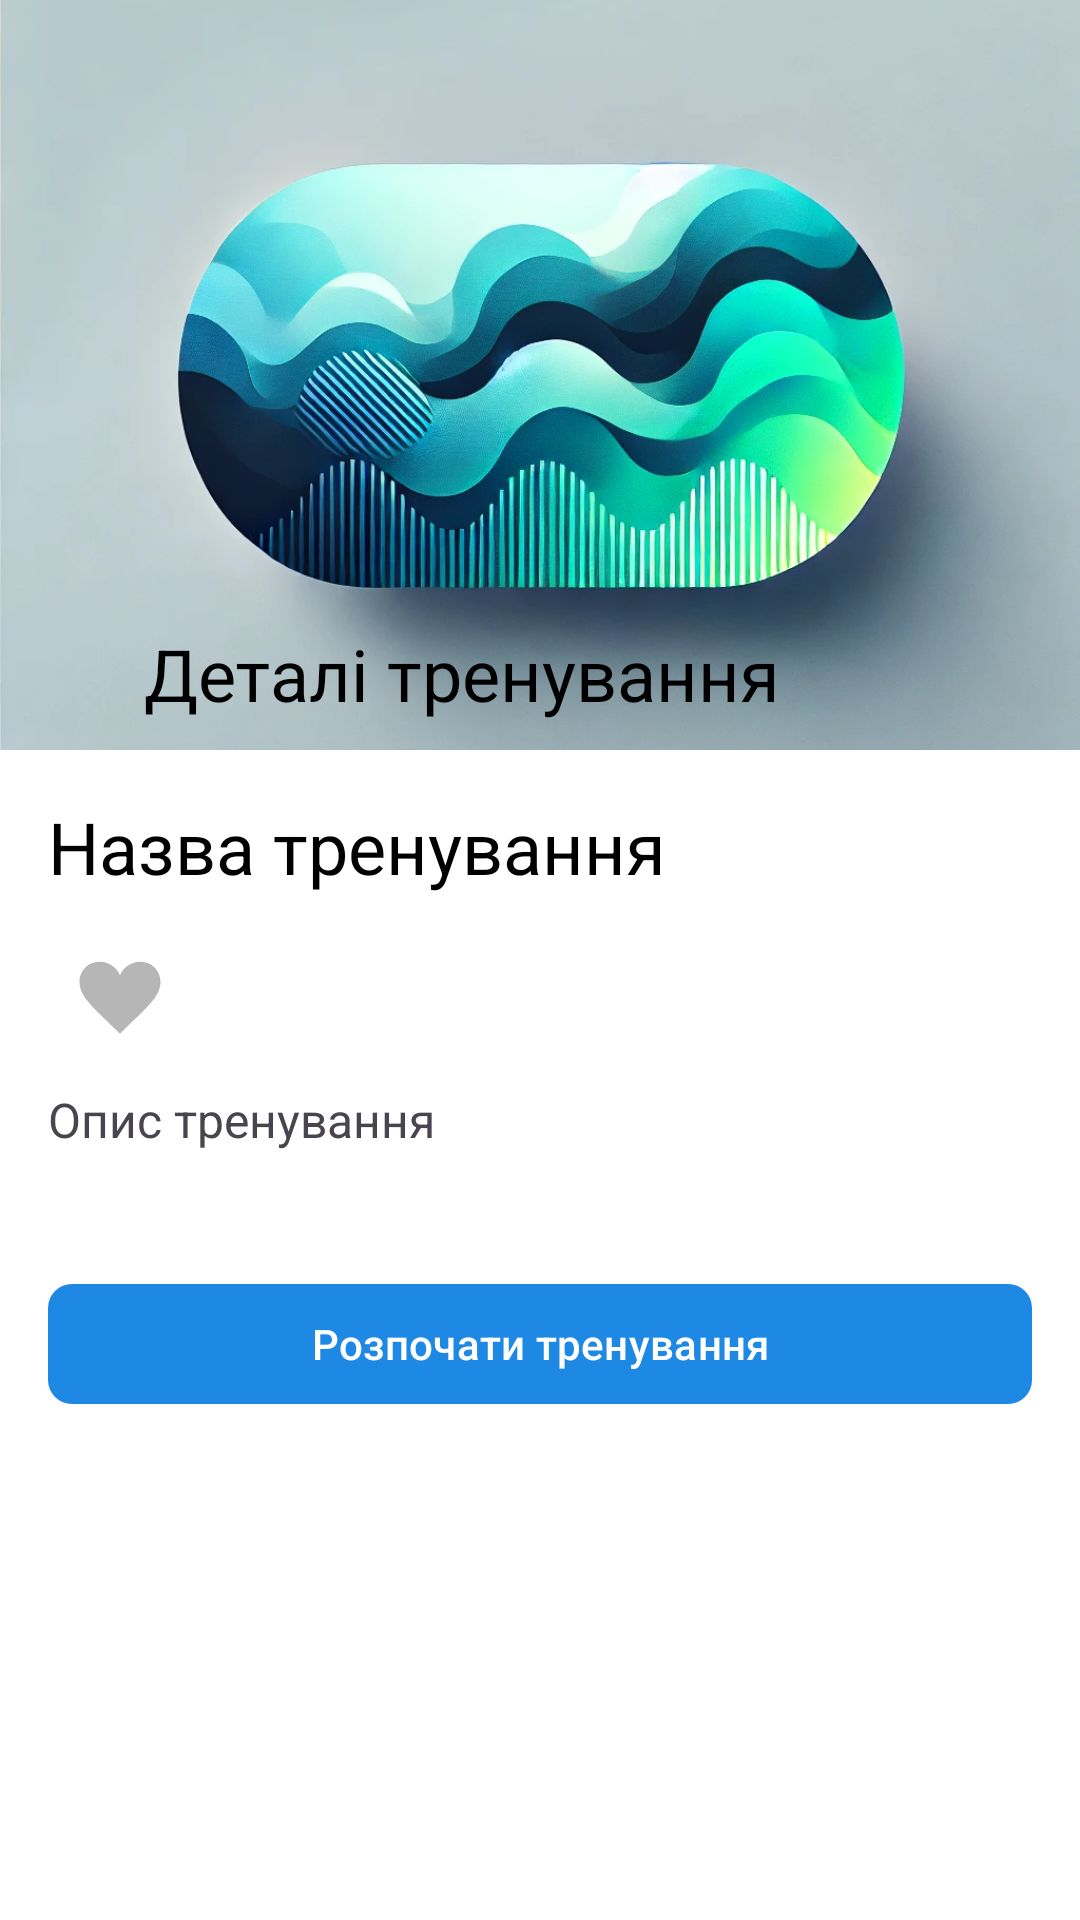

Locate icon controls on the screen. Image size 1080*1920, boxes as (x1, y1, x2, y2).
Вподобати тренування: (79, 962, 161, 1033)
